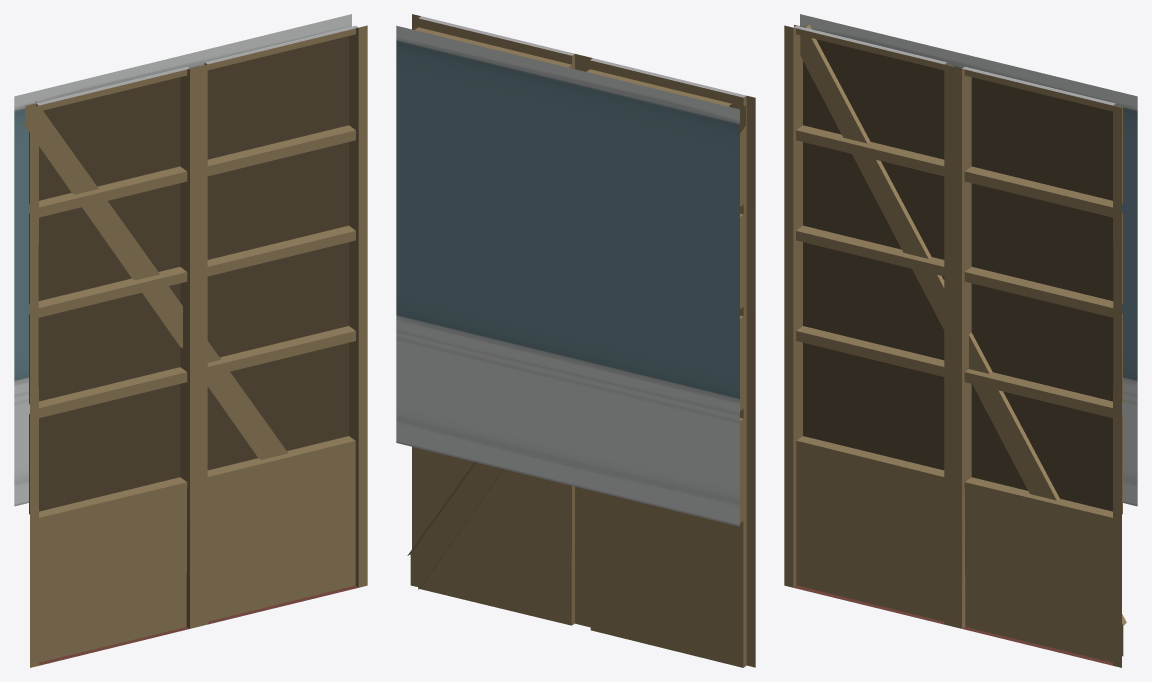
File: SM_Bld_House_InternalWall_Garage_01.fbx
The picture shows the model from 3 angles, left to right: view 1: azimuth 30°, elevation 25°; view 2: azimuth 150°, elevation 25°; view 3: azimuth 330°, elevation 25°; orthographic projection.
Parts seen in each view (by area): view 1: SM_Bld_House_InternalWall_Garage_01; view 2: SM_Bld_House_InternalWall_Garage_01; view 3: SM_Bld_House_InternalWall_Garage_01.
Boxes of the visible parts, box(x1,y1,x2,y2) form: SM_Bld_House_InternalWall_Garage_01: box(14, 14, 367, 667); SM_Bld_House_InternalWall_Garage_01: box(396, 14, 755, 667); SM_Bld_House_InternalWall_Garage_01: box(784, 14, 1137, 667).
Size of the model in its own units: 250 by 396 by 20.07.
